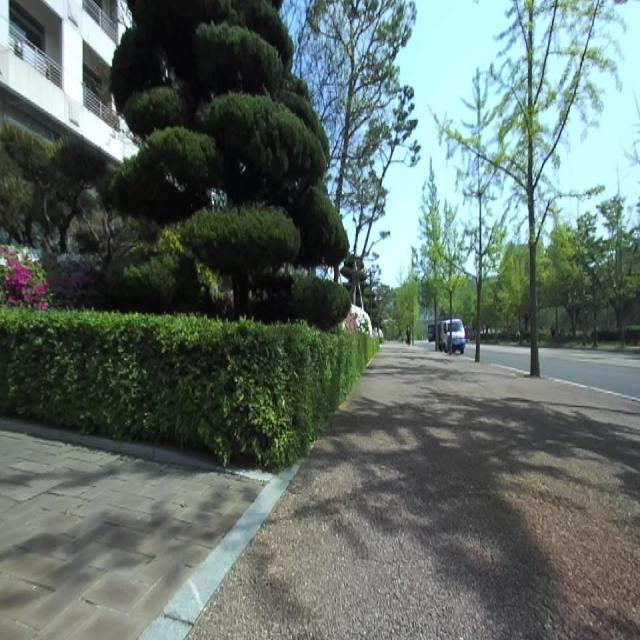sidewalk: (190, 341, 640, 639)
